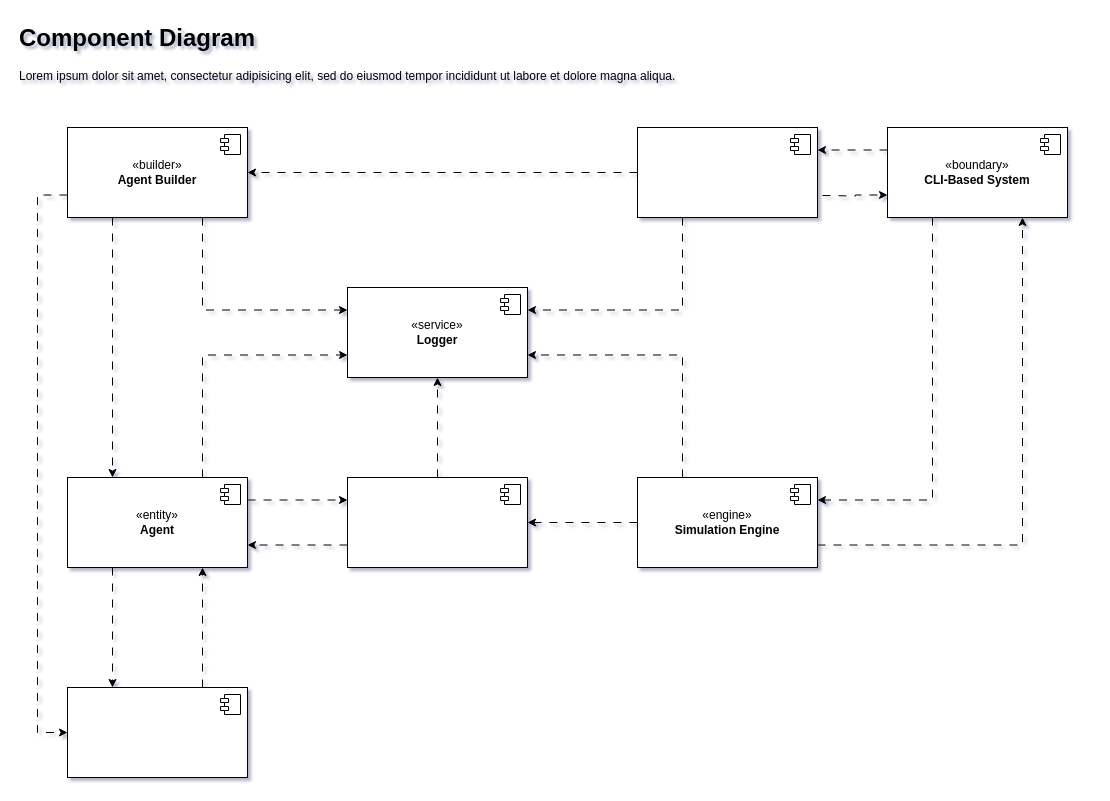
Image size: 1110x801. Some labels were removed from this diagram. The shapes that lost their labels are listed below. From the top down, each one's centre as x and y in pixels, then its label:
At pixel 727 172: "«controller» Configuration Controller".
At pixel 437 522: "«mediator» Mediator".
At pixel 157 732: "«engine» Reasoning Engine".
